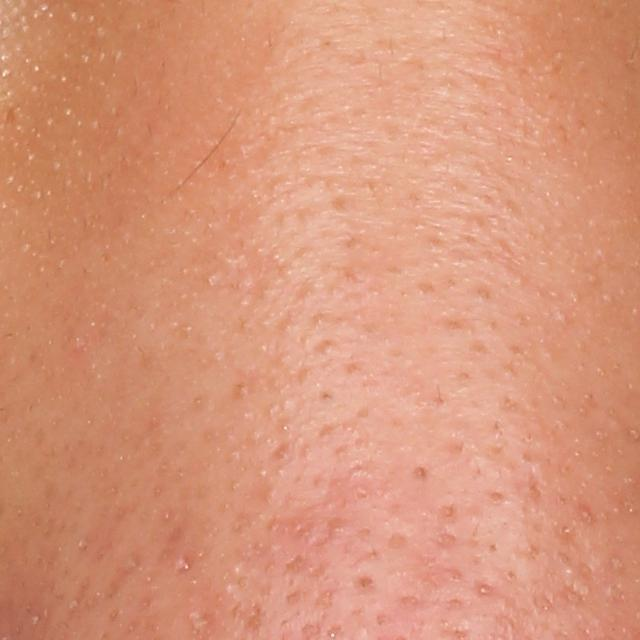comedo: (409, 463, 435, 485), (472, 578, 497, 600)
